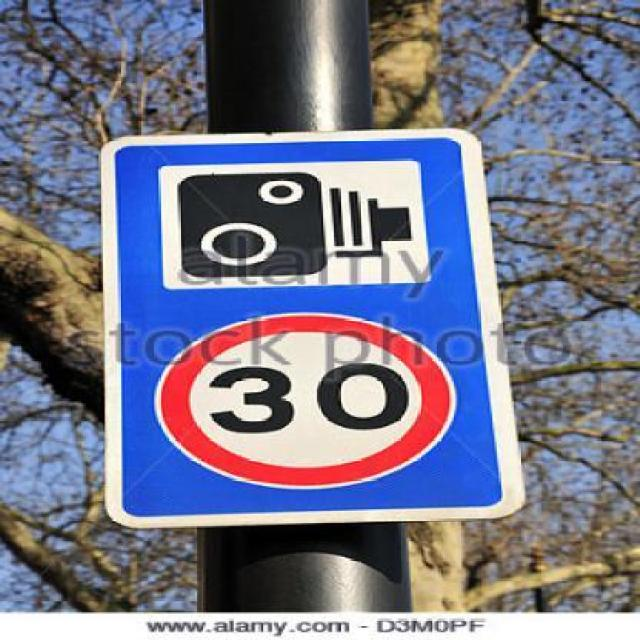speed_limit_30: (158, 313, 454, 487)
